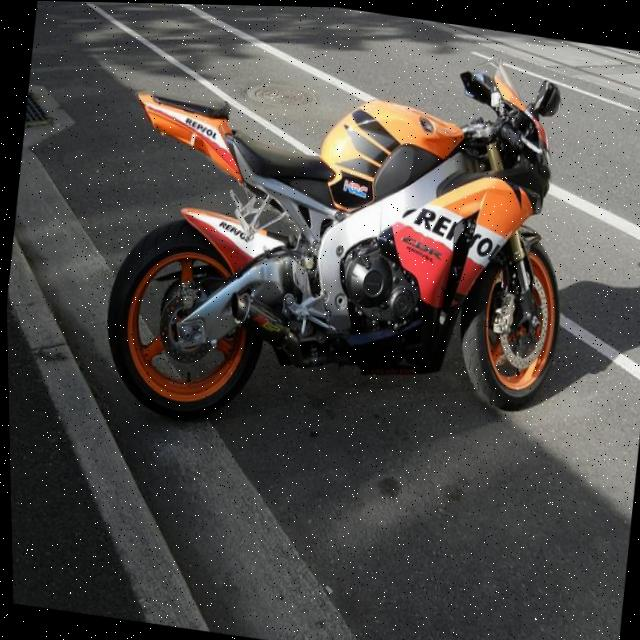motorcycle: (83, 2, 598, 478)
